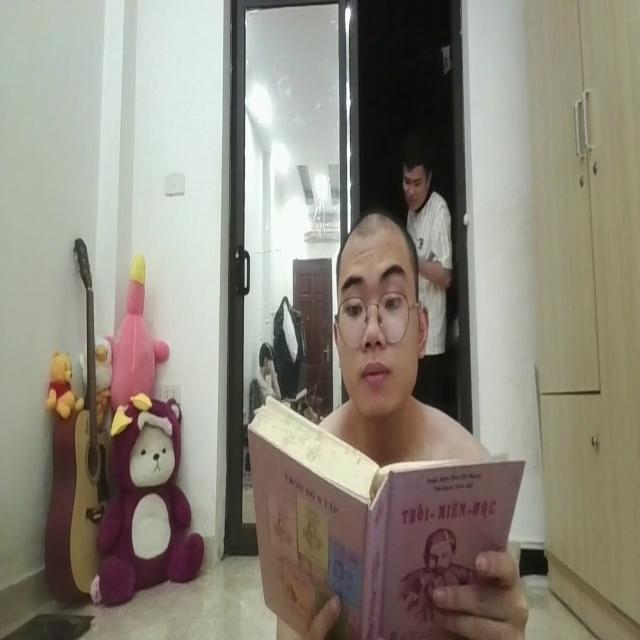book: (244, 385, 526, 630)
extra_person: (401, 135, 453, 357)
student: (324, 206, 430, 458)
